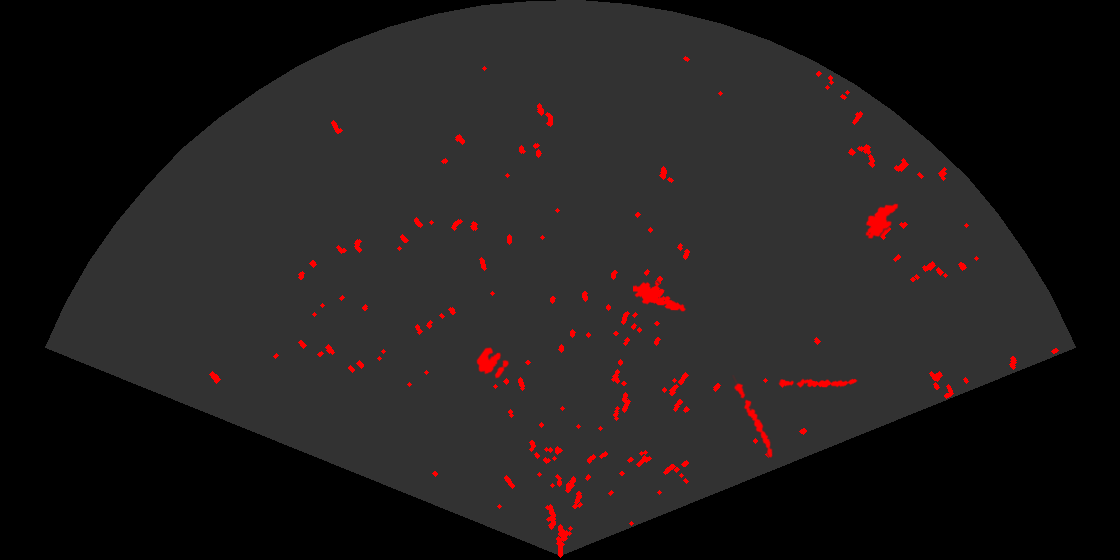AUV: (864, 202, 900, 241)
ball: (475, 346, 511, 380)
chain: (731, 375, 774, 459), (778, 377, 858, 390)
frogman: (633, 280, 687, 313)
